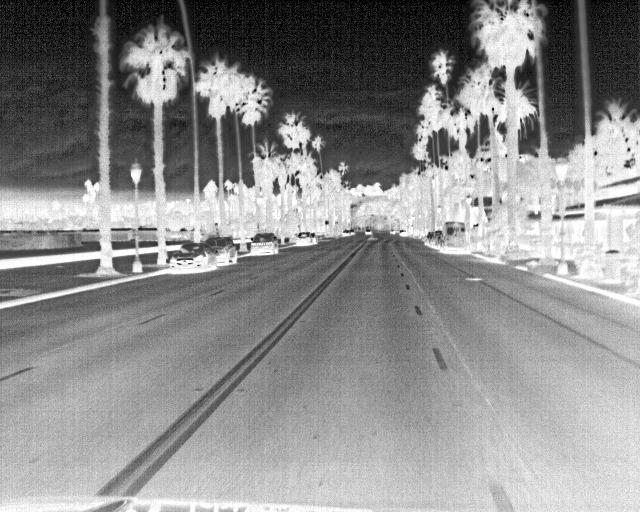car: (167, 240, 214, 274), (203, 236, 237, 266), (438, 220, 467, 252), (246, 233, 281, 255), (294, 230, 311, 247), (430, 229, 443, 249), (421, 230, 434, 247), (306, 230, 318, 245), (340, 228, 350, 239), (363, 227, 374, 237)
